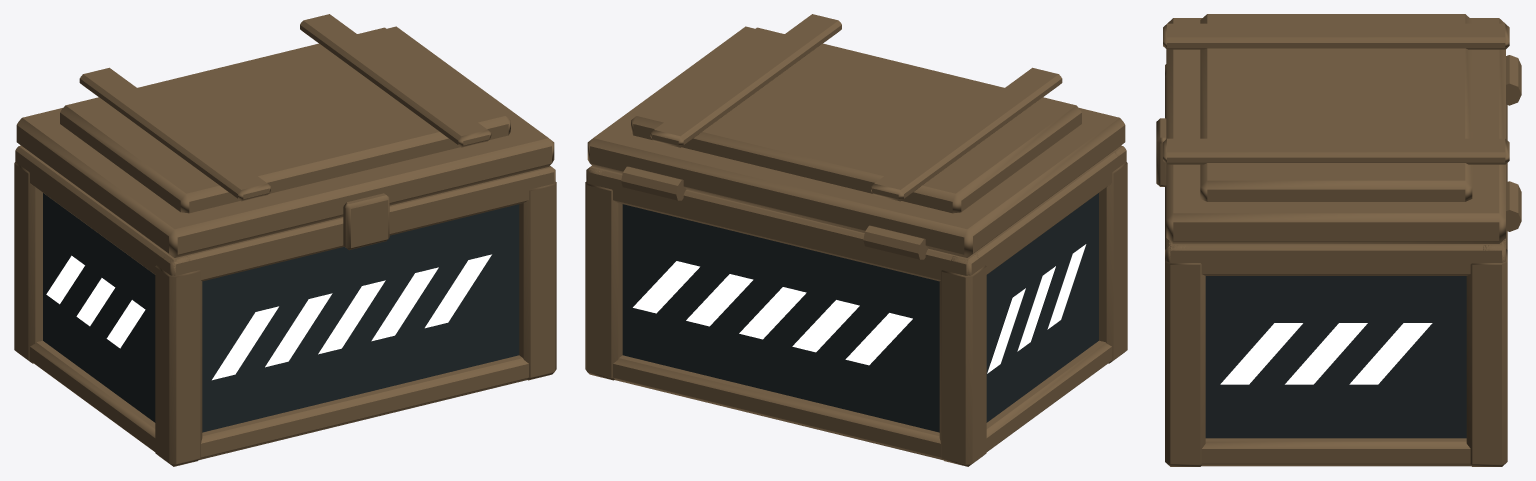
Rendered from crate.glb.
3 renders of one model, left to right at view 1: azimuth 30°, elevation 25°; view 2: azimuth 150°, elevation 25°; view 3: azimuth 270°, elevation 25°, orthographic. The views are drawn at different scales.
Parts seen in each view (by area): view 1: crate_lid, body_metal_dark, body_metal_brass, body_glow_band; view 2: crate_lid, body_metal_dark, body_metal_brass, body_glow_band; view 3: crate_lid, body_metal_dark, body_metal_brass, body_glow_band.
Part boxes in pixels (x1=…): crate_lid: x1=16, y1=14, x2=554, y2=257; body_metal_dark: x1=43, y1=193, x2=519, y2=432; body_metal_brass: x1=14, y1=145, x2=556, y2=466; body_glow_band: x1=46, y1=254, x2=491, y2=380; crate_lid: x1=587, y1=14, x2=1125, y2=259; body_metal_dark: x1=622, y1=193, x2=1098, y2=432; body_metal_brass: x1=585, y1=145, x2=1127, y2=466; body_glow_band: x1=633, y1=244, x2=1086, y2=373; crate_lid: x1=1156, y1=14, x2=1521, y2=243; body_metal_dark: x1=1205, y1=276, x2=1466, y2=438; body_metal_brass: x1=1165, y1=64, x2=1507, y2=466; body_glow_band: x1=1220, y1=323, x2=1432, y2=384.
Size of the model in its own units: 0.704 by 0.455 by 0.538.
